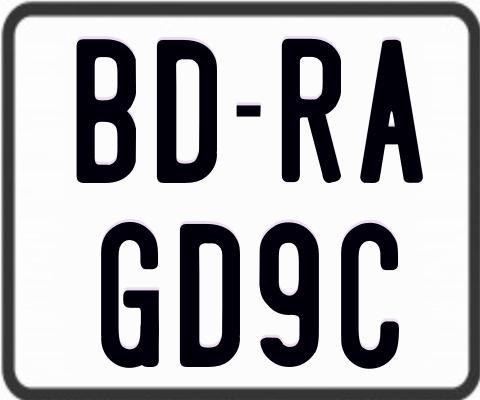9: (259, 219, 324, 369)
A: (357, 38, 425, 186)
B: (76, 39, 136, 183)
C: (341, 221, 404, 367)
D: (178, 222, 243, 369), (155, 37, 216, 182)
G: (99, 222, 158, 370)
R: (282, 39, 344, 186)
